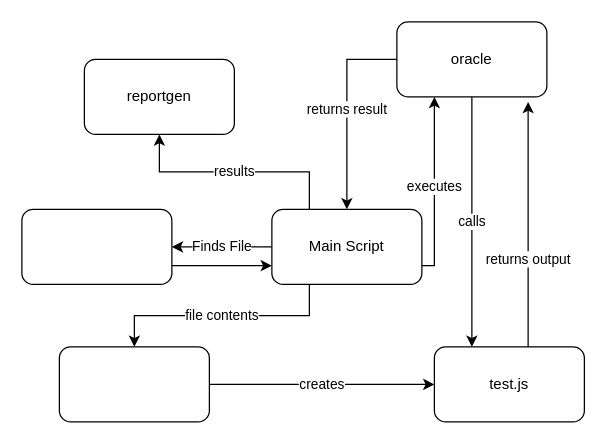
The diagram is 606 pixels wide and 444 high, and some of its shapes have lost their labels. Here are the shapes that lost their labels. From the top down, the centre of each, then its label:
the point at 96,246: Test Cases Directory
the point at 133,384: Exegen
